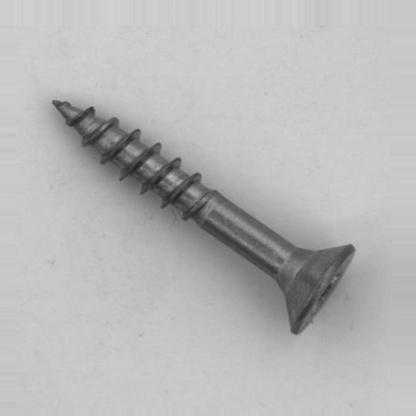metal: (51, 98, 355, 334)
